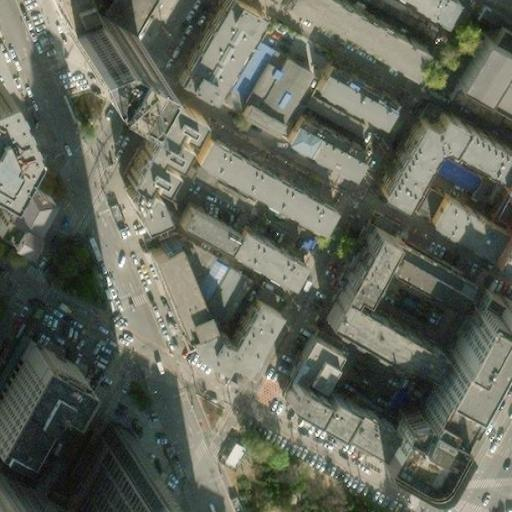building: (320, 219, 430, 362), (184, 133, 326, 231), (373, 102, 509, 199), (412, 306, 505, 433), (279, 0, 424, 75), (58, 411, 154, 512), (113, 93, 188, 218), (168, 0, 261, 92), (274, 369, 382, 441), (142, 230, 207, 326), (370, 407, 448, 478), (212, 287, 280, 366), (308, 63, 390, 127), (242, 55, 308, 128), (456, 21, 512, 107), (415, 190, 490, 251), (218, 225, 294, 285), (381, 252, 456, 306), (224, 45, 274, 106), (303, 123, 362, 174), (171, 197, 232, 246), (432, 151, 488, 199), (278, 337, 329, 385), (44, 470, 80, 512), (281, 110, 317, 148), (494, 143, 512, 191)
